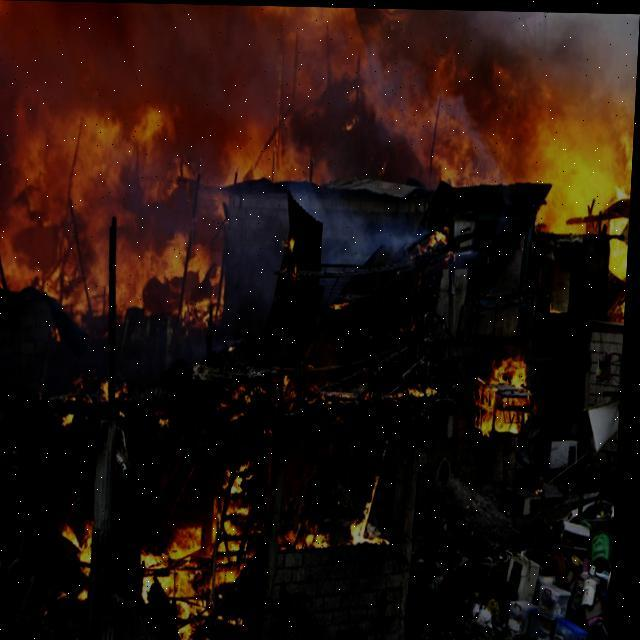Fire: (242, 19, 634, 238), (58, 433, 404, 630), (0, 85, 245, 328), (470, 348, 542, 450)
